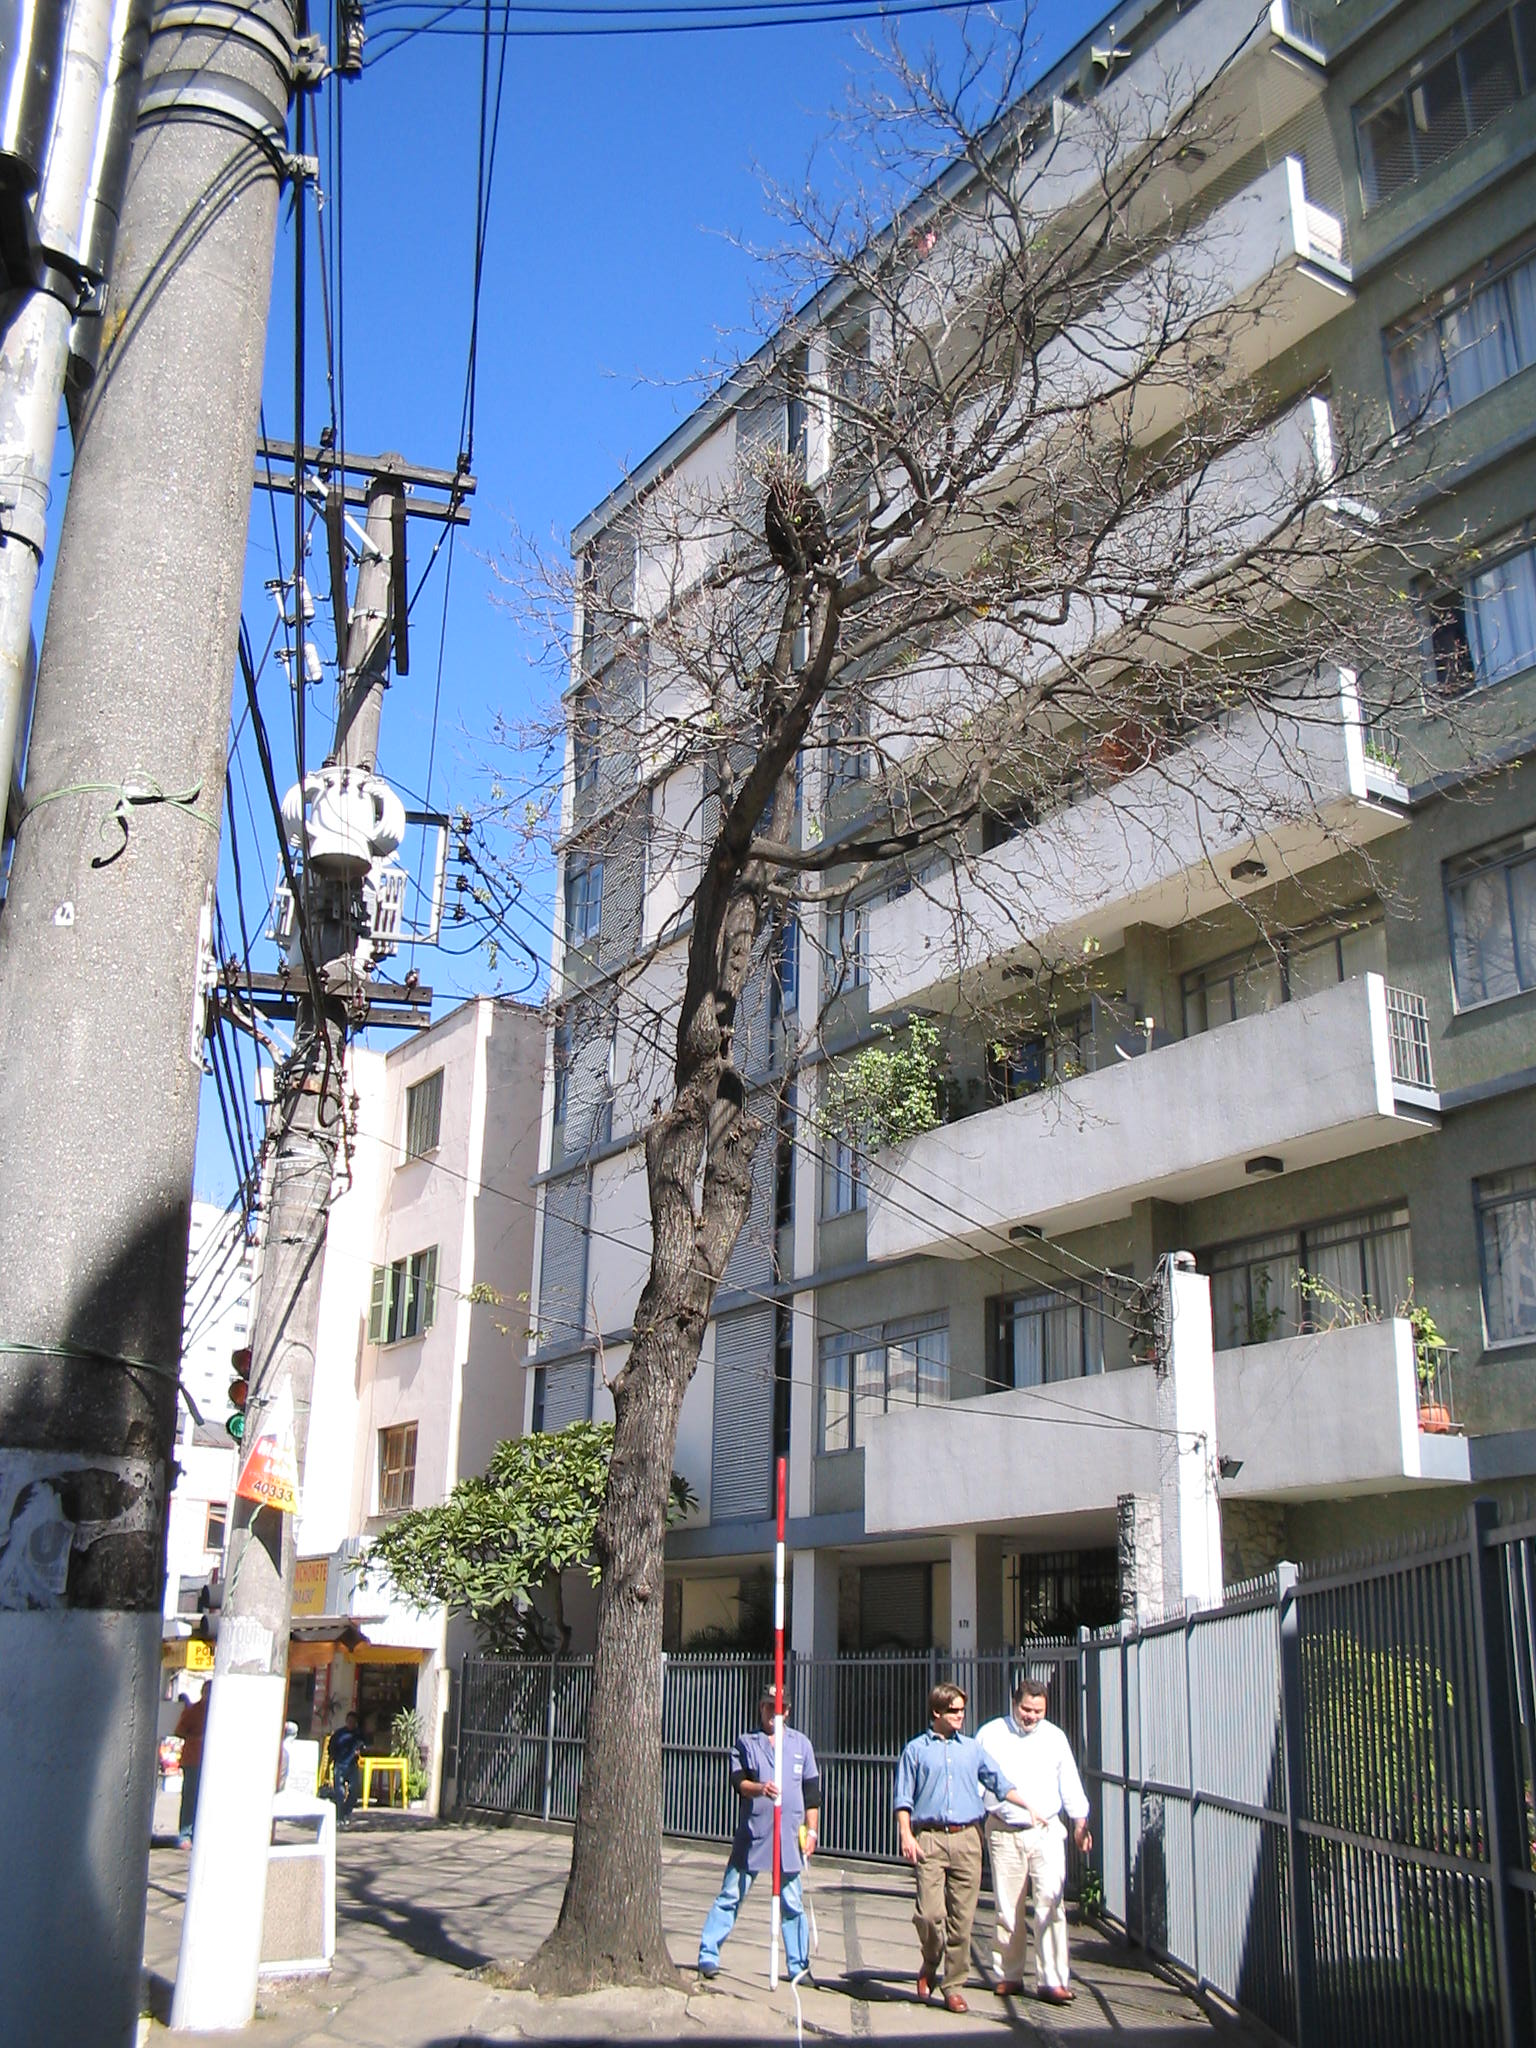stem: (511, 1229, 749, 1990)
stick: (741, 1453, 828, 1996)
tree: (478, 8, 1521, 1995)
